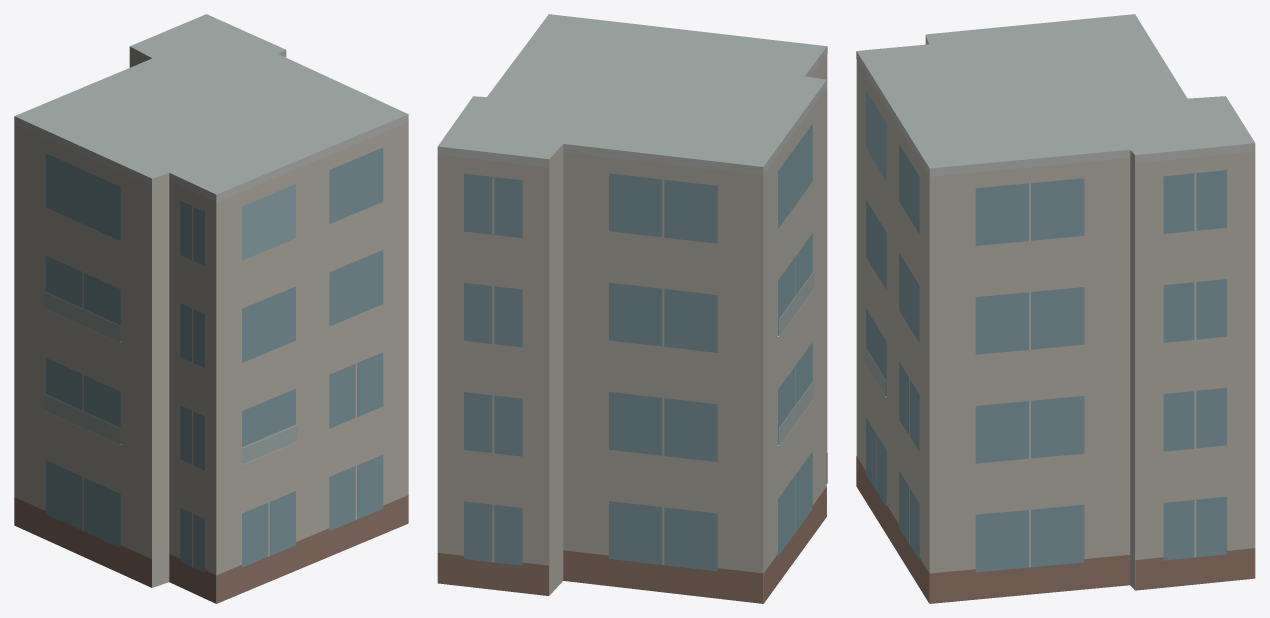
The model's file is survey-upis-32489216.glb.
3 renders of one model, left to right at view 1: azimuth 30°, elevation 25°; view 2: azimuth 150°, elevation 25°; view 3: azimuth 270°, elevation 25°, orthographic. The views are drawn at different scales.
Visible parts, largest first — view 1: survey-upis-32489216.tmp; view 2: survey-upis-32489216.tmp; view 3: survey-upis-32489216.tmp.
Part boxes in pixels (x1=…): survey-upis-32489216.tmp: x1=14, y1=14, x2=408, y2=603; survey-upis-32489216.tmp: x1=437, y1=14, x2=827, y2=603; survey-upis-32489216.tmp: x1=856, y1=14, x2=1255, y2=603.
Bounding box in the file's own units: 9.86 × 12.95 × 10.76.
